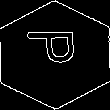P_E: (26, 36, 84, 74)
